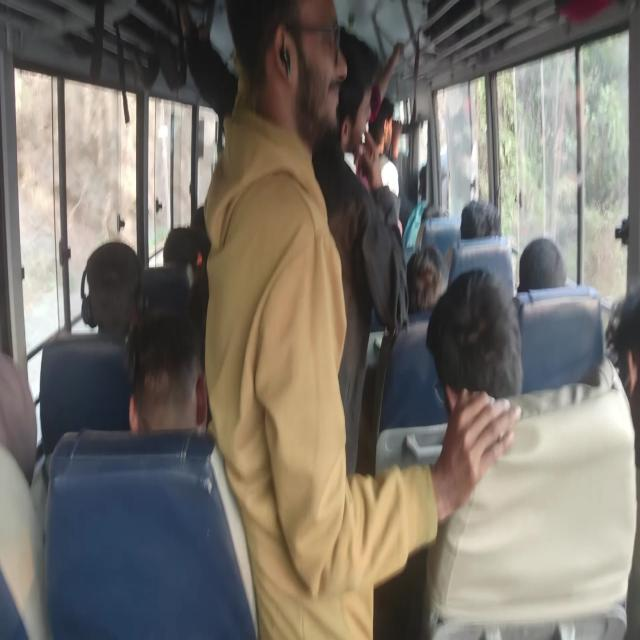person: (201, 0, 522, 638), (311, 28, 409, 476), (426, 267, 523, 406), (125, 308, 208, 434), (80, 239, 142, 346), (0, 350, 37, 486), (406, 243, 447, 316), (517, 236, 567, 292), (460, 198, 501, 240)
